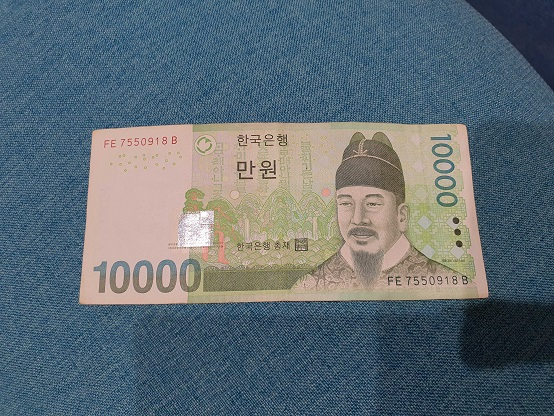10000won: (80, 119, 489, 305)
